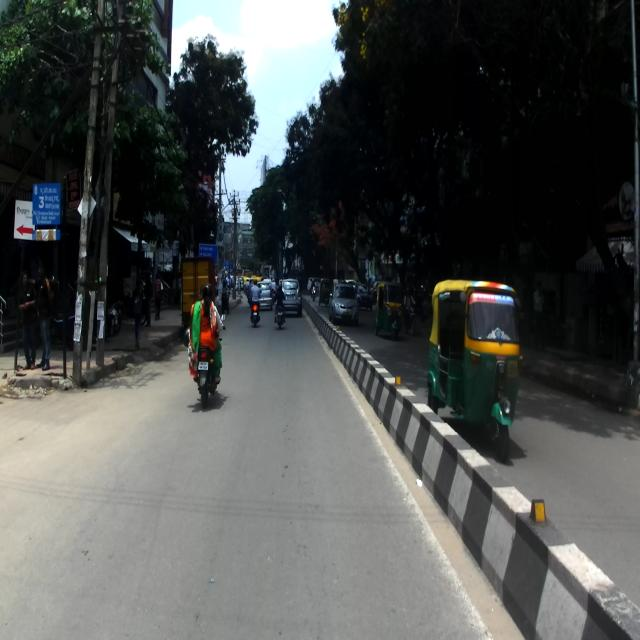auto ahead at: (426, 277, 533, 465)
electric pole ahead at: (67, 1, 128, 377)
